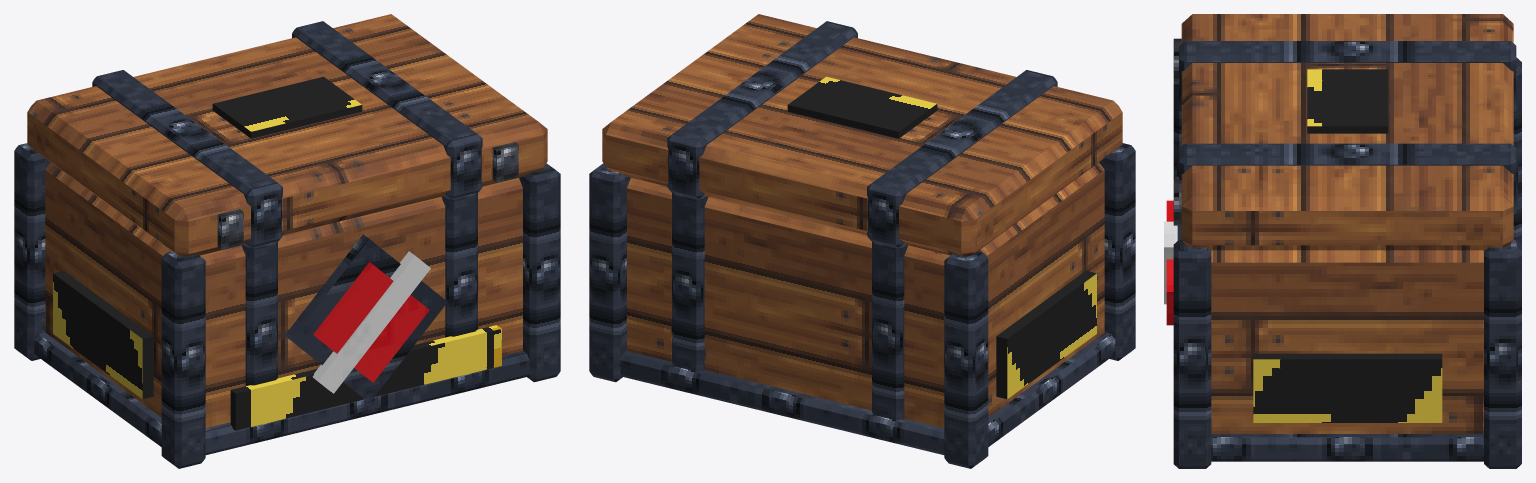
Rendered from exp_crate.glb.
3 views of the same model, side by side, from view 1: azimuth 30°, elevation 25°; view 2: azimuth 150°, elevation 25°; view 3: azimuth 270°, elevation 25° (orthographic). The views are drawn at different scales.
Parts seen in each view (by area): view 1: Crate, Lid; view 2: Crate, Lid; view 3: Lid, Crate.
Boxes of the visible parts, x1,y1,x2,y2 form: Crate: [14, 143, 560, 468]; Lid: [27, 14, 547, 256]; Crate: [589, 143, 1135, 468]; Lid: [602, 14, 1122, 256]; Lid: [1173, 14, 1516, 250]; Crate: [1164, 57, 1521, 468].
Size of the model in its own units: 1.74 by 1.12 by 1.32.
Materials: 7 (7 with a texture image).
